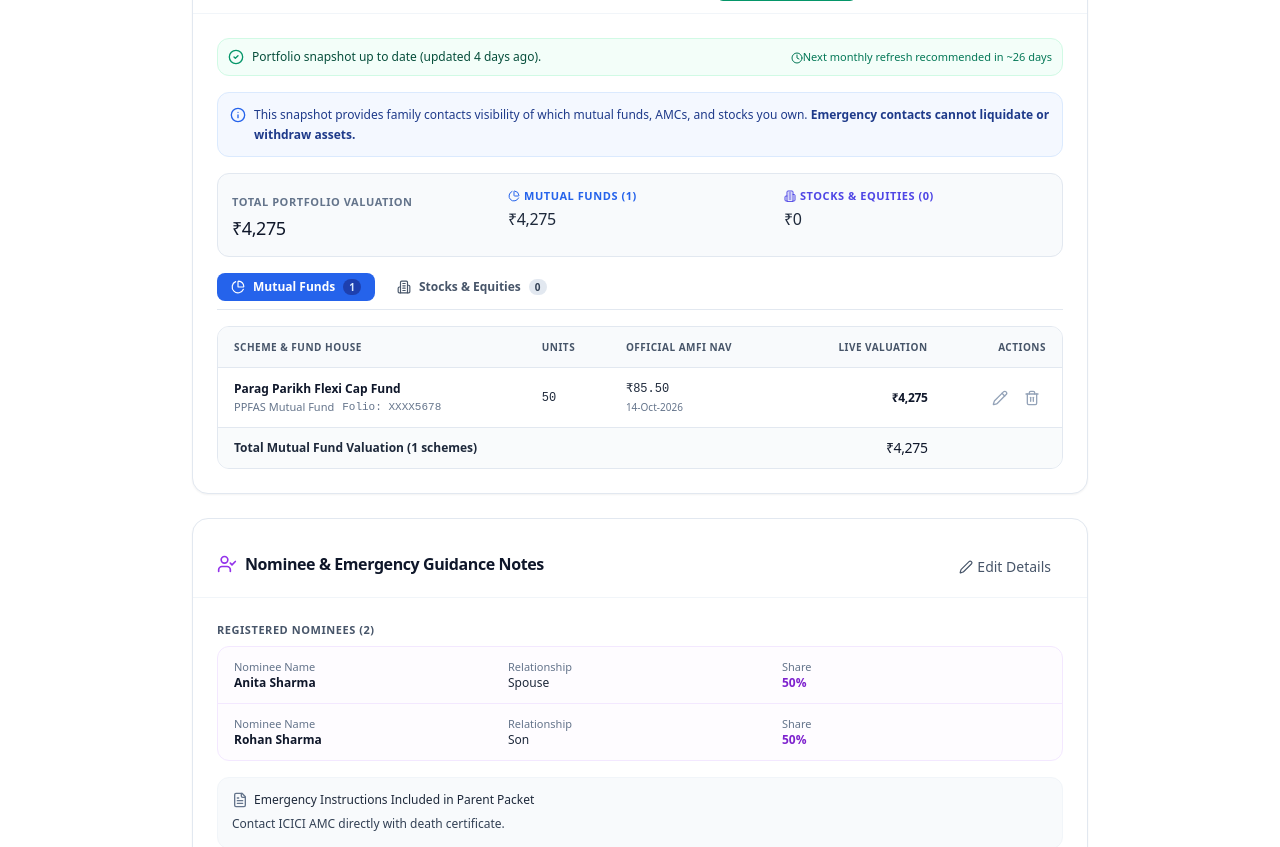
Accounts Feature - Bank Accounts & Mutual Funds › allows removing an individual mutual fund holding with confirmation dialog
(page scrolled)
Check: the text "Parag Parikh Flexi Cap Fund" is shown, box top-left (234, 380), bottom-right (401, 396)
Check: the text "Folio: XXXX5678" is shown, box top-left (342, 398), bottom-right (441, 414)
Note: Click trash button on the row
Click the button named "remove parag parikh flexi cap fund" at [1032, 398], box top-left (1018, 384), bottom-right (1046, 412)
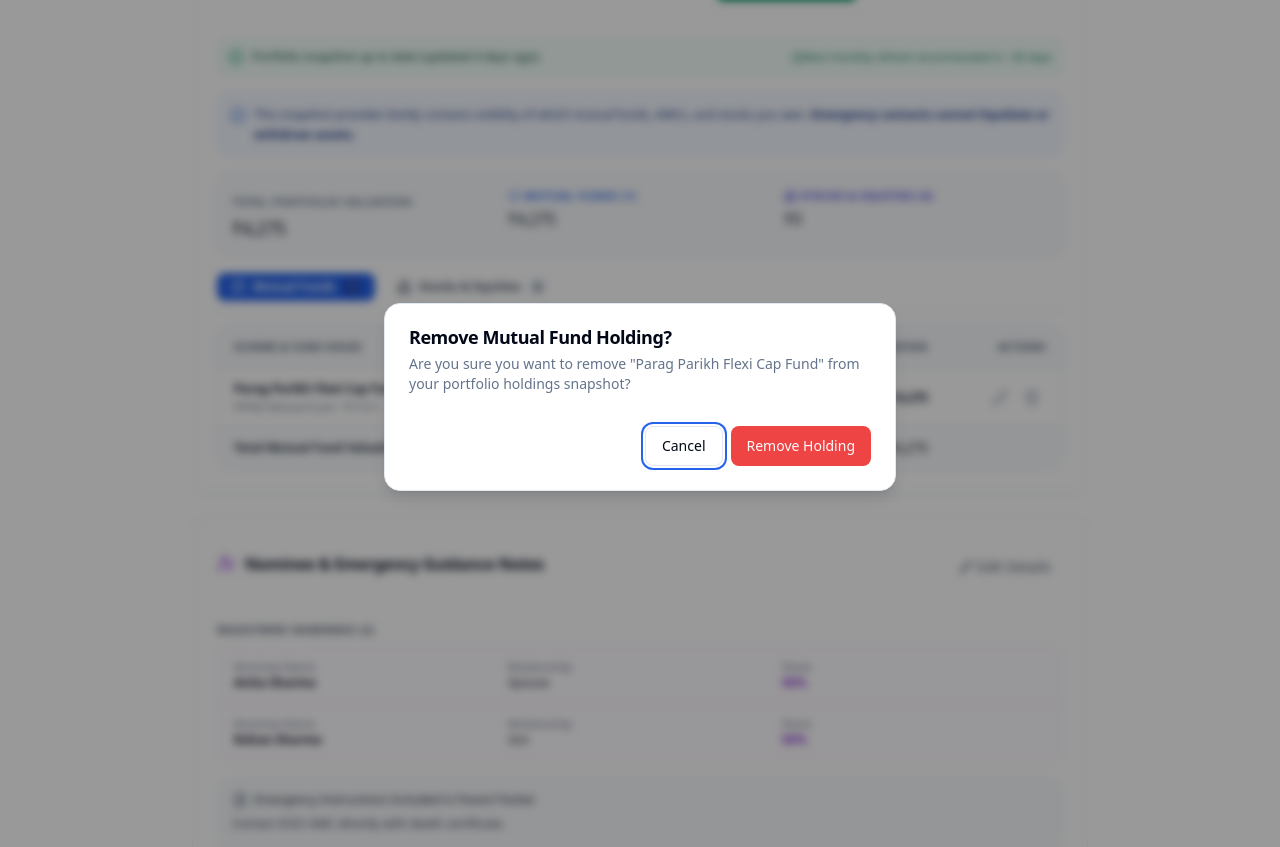
Check: the heading "Remove Mutual Fund Holding?" is shown, box top-left (409, 325), bottom-right (672, 349)
Check: the text "Are you sure you want to remove \"Parag Parikh Flexi Cap Fund\"" is shown, box top-left (409, 354), bottom-right (860, 393)
Note: Confirm deletion
Click the button "Remove Holding" at [801, 446], box top-left (730, 426), bottom-right (871, 466)
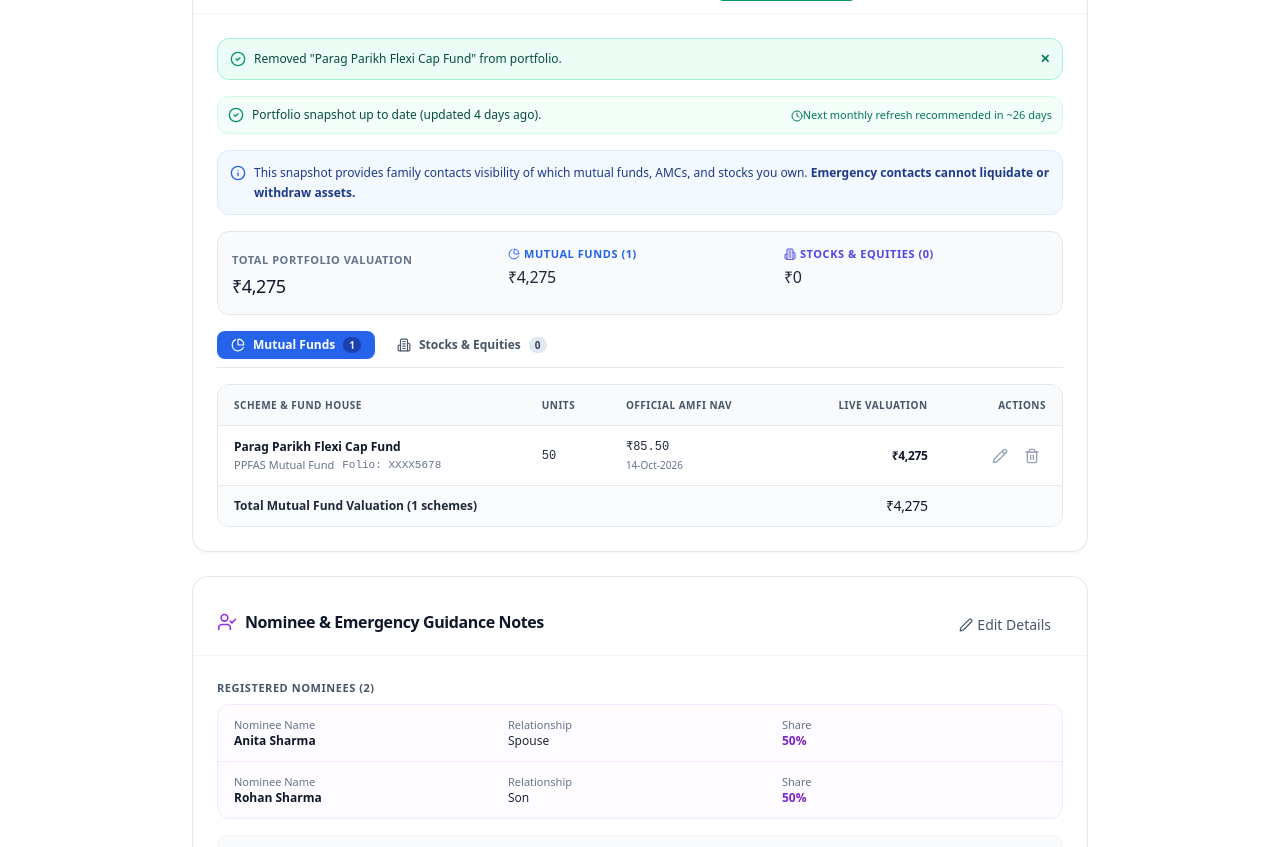
Check: the text "Removed \"Parag Parikh Flexi Cap Fund\" from portfolio." is shown, box top-left (254, 51), bottom-right (562, 67)
